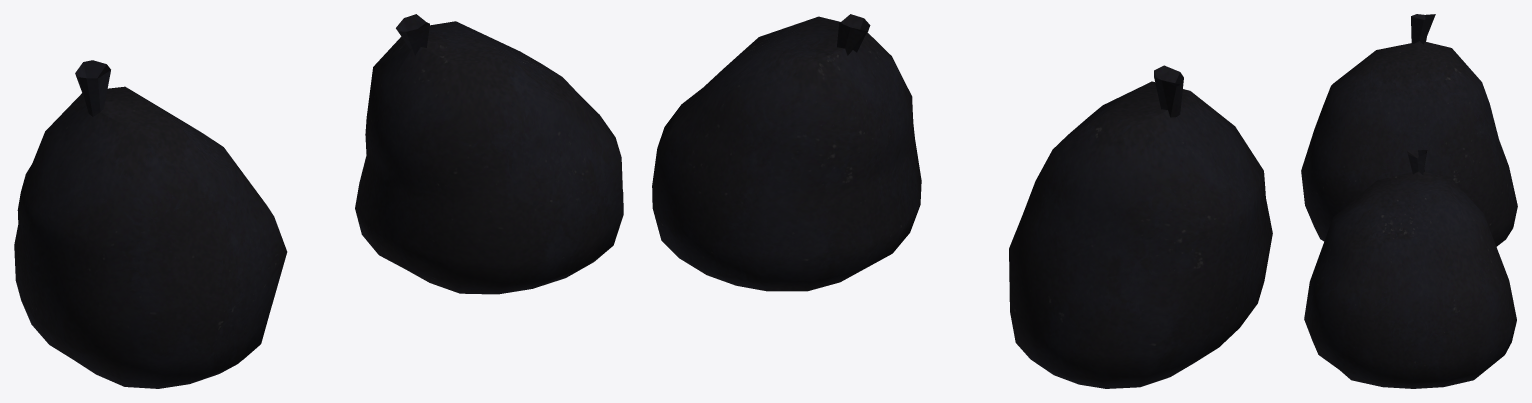
File: Factory_TrashBags.fbx
The picture shows the model from 3 angles, left to right: view 1: azimuth 30°, elevation 25°; view 2: azimuth 150°, elevation 25°; view 3: azimuth 270°, elevation 25°; orthographic projection. The views are drawn at different scales.
Parts seen in each view (by area): view 1: Trashbag, Trashbag.001; view 2: Trashbag, Trashbag.001; view 3: Trashbag.001, Trashbag.
Boxes of the visible parts, x1,y1,x2,y2 form: Trashbag: (14, 60, 287, 388); Trashbag.001: (355, 14, 623, 294); Trashbag: (1009, 65, 1272, 388); Trashbag.001: (652, 14, 921, 291); Trashbag.001: (1304, 149, 1516, 388); Trashbag: (1301, 14, 1517, 246).
Size of the model in its own units: 208 by 106 by 91.97.
Materials: 1 (1 with a texture image).
